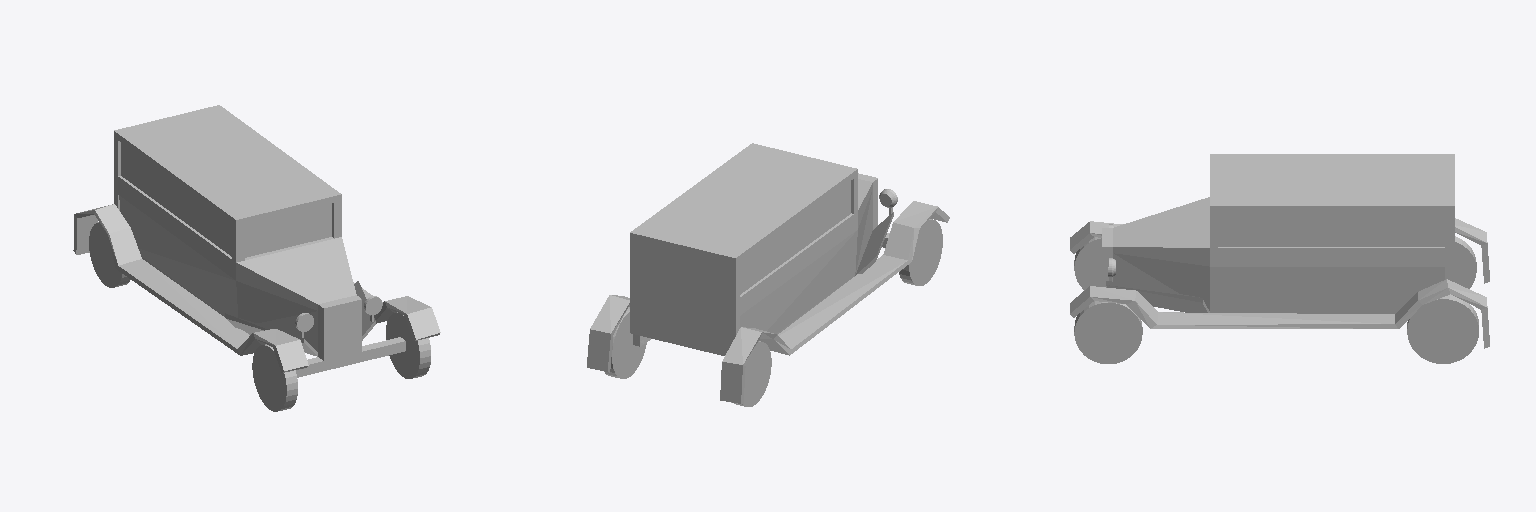
Rendered from car.obj.
3 views of the same model, side by side, from view 1: azimuth 30°, elevation 25°; view 2: azimuth 150°, elevation 25°; view 3: azimuth 270°, elevation 25° (orthographic).
Visible parts, largest first — view 1: Cube.001; view 2: Cube.001; view 3: Cube.001.
Part boxes in pixels (x1,y1,x2,y2): Cube.001: (73,105,440,411); Cube.001: (587,143,949,406); Cube.001: (1070,154,1489,363).
Bounding box in the file's own units: 4.71 × 4.15 × 10.57.